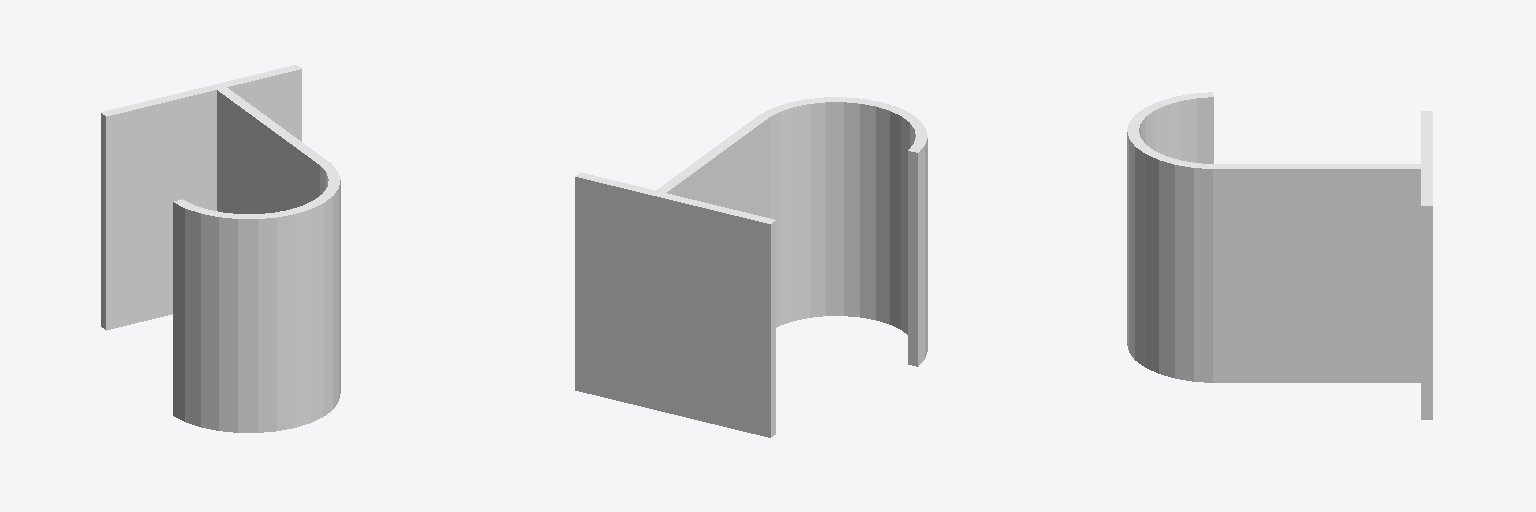
3 renders of one model, left to right at view 1: azimuth 30°, elevation 25°; view 2: azimuth 150°, elevation 25°; view 3: azimuth 270°, elevation 25°, orthographic.
Parts seen in each view (by area): view 1: wall_1_4, wall_3_16, wall_2_9, wall_1_6, wall_3_15, wall_1_5, wall_3_17, wall_3_18; view 2: wall_3_15, wall_1_3, wall_2_9, wall_1_4, wall_1_6, wall_3_16, wall_1_5, wall_3_17, wall_3_18; view 3: wall_2_10, wall_1_4, wall_1_3, wall_3_15, wall_3_16, wall_1_6, wall_2_11, wall_1_5, wall_3_17, wall_3_18.
Part boxes in pixels (bbox=[...]): wall_1_4: bbox=[173, 180, 340, 432]; wall_3_16: bbox=[104, 69, 301, 330]; wall_2_9: bbox=[217, 90, 319, 213]; wall_1_6: bbox=[174, 164, 340, 218]; wall_3_15: bbox=[101, 113, 103, 327]; wall_1_5: bbox=[178, 165, 334, 216]; wall_3_17: bbox=[101, 65, 298, 114]; wall_3_18: bbox=[104, 67, 301, 116]; wall_3_15: bbox=[575, 177, 772, 437]; wall_1_3: bbox=[770, 102, 915, 365]; wall_2_9: bbox=[667, 117, 769, 217]; wall_1_4: bbox=[913, 138, 927, 366]; wall_1_6: bbox=[760, 97, 927, 152]; wall_3_16: bbox=[773, 221, 775, 435]; wall_1_5: bbox=[765, 100, 921, 151]; wall_3_17: bbox=[575, 175, 772, 223]; wall_3_18: bbox=[578, 172, 775, 221]; wall_2_10: bbox=[1213, 169, 1420, 382]; wall_1_4: bbox=[1127, 132, 1212, 382]; wall_1_3: bbox=[1139, 97, 1213, 163]; wall_3_15: bbox=[1427, 206, 1432, 419]; wall_3_16: bbox=[1421, 206, 1426, 419]; wall_1_6: bbox=[1127, 92, 1212, 168]; wall_2_11: bbox=[1213, 164, 1423, 166]; wall_1_5: bbox=[1133, 95, 1213, 166]; wall_3_17: bbox=[1427, 111, 1432, 205]; wall_3_18: bbox=[1421, 111, 1426, 205].
Bounding box in the file's own units: 174 × 152 × 198.